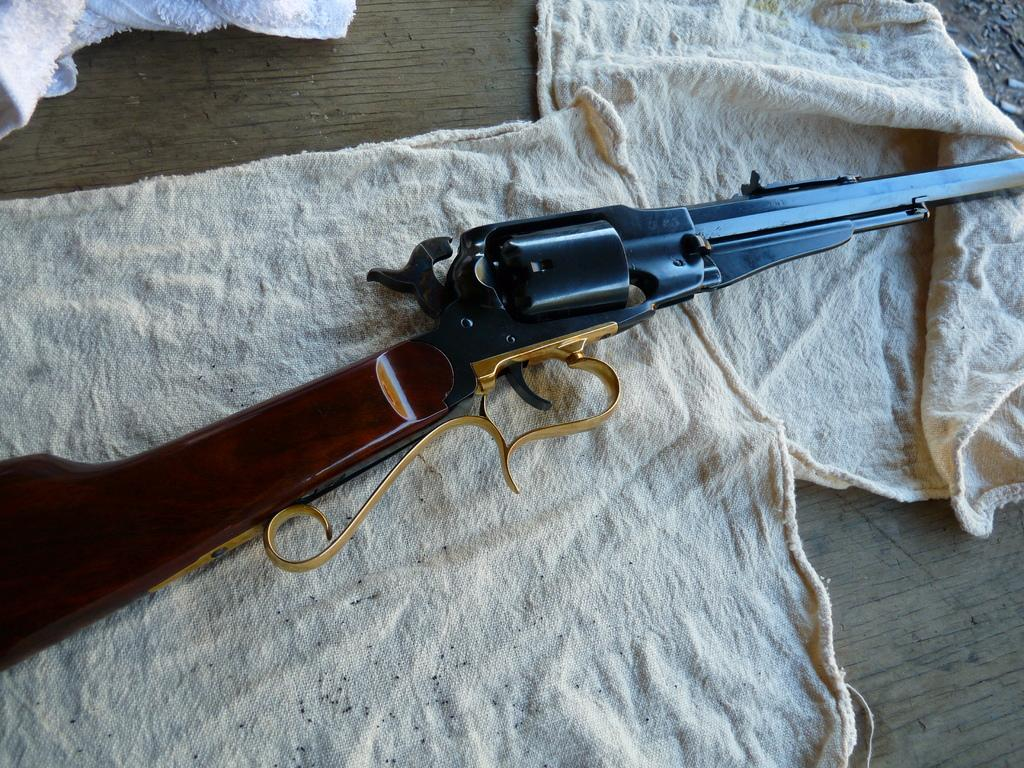Rifle: (0, 159, 1023, 670)
